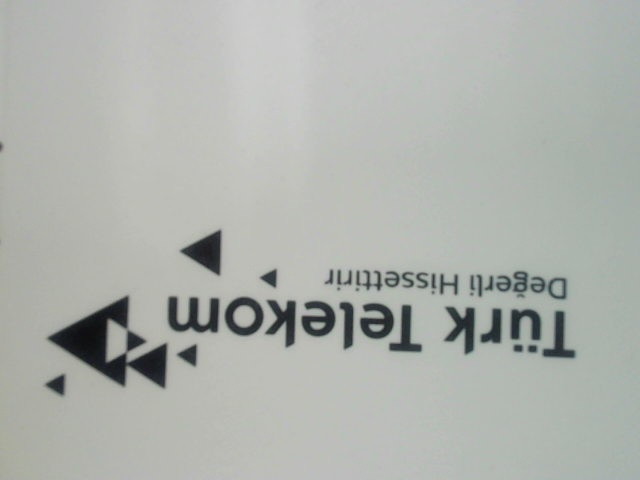AQ_TURKTelekom: (37, 213, 574, 399)
